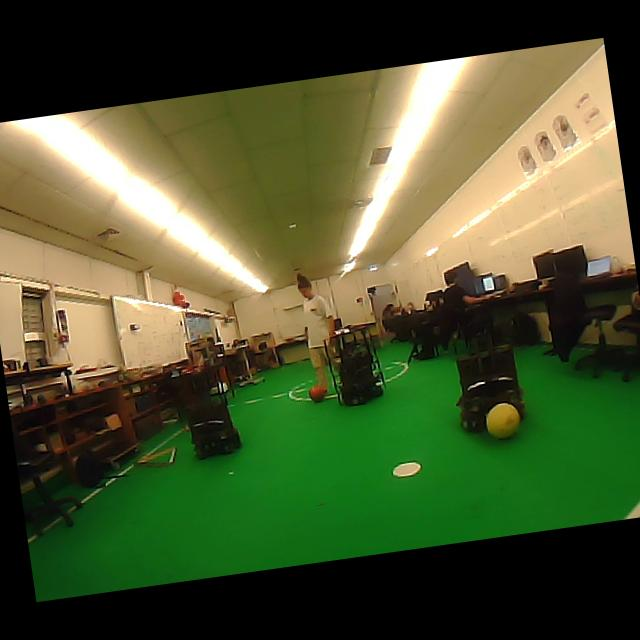ball: (486, 403, 520, 439), (309, 385, 326, 403)
robot: (457, 345, 526, 439), (180, 364, 242, 458), (325, 328, 386, 404)
